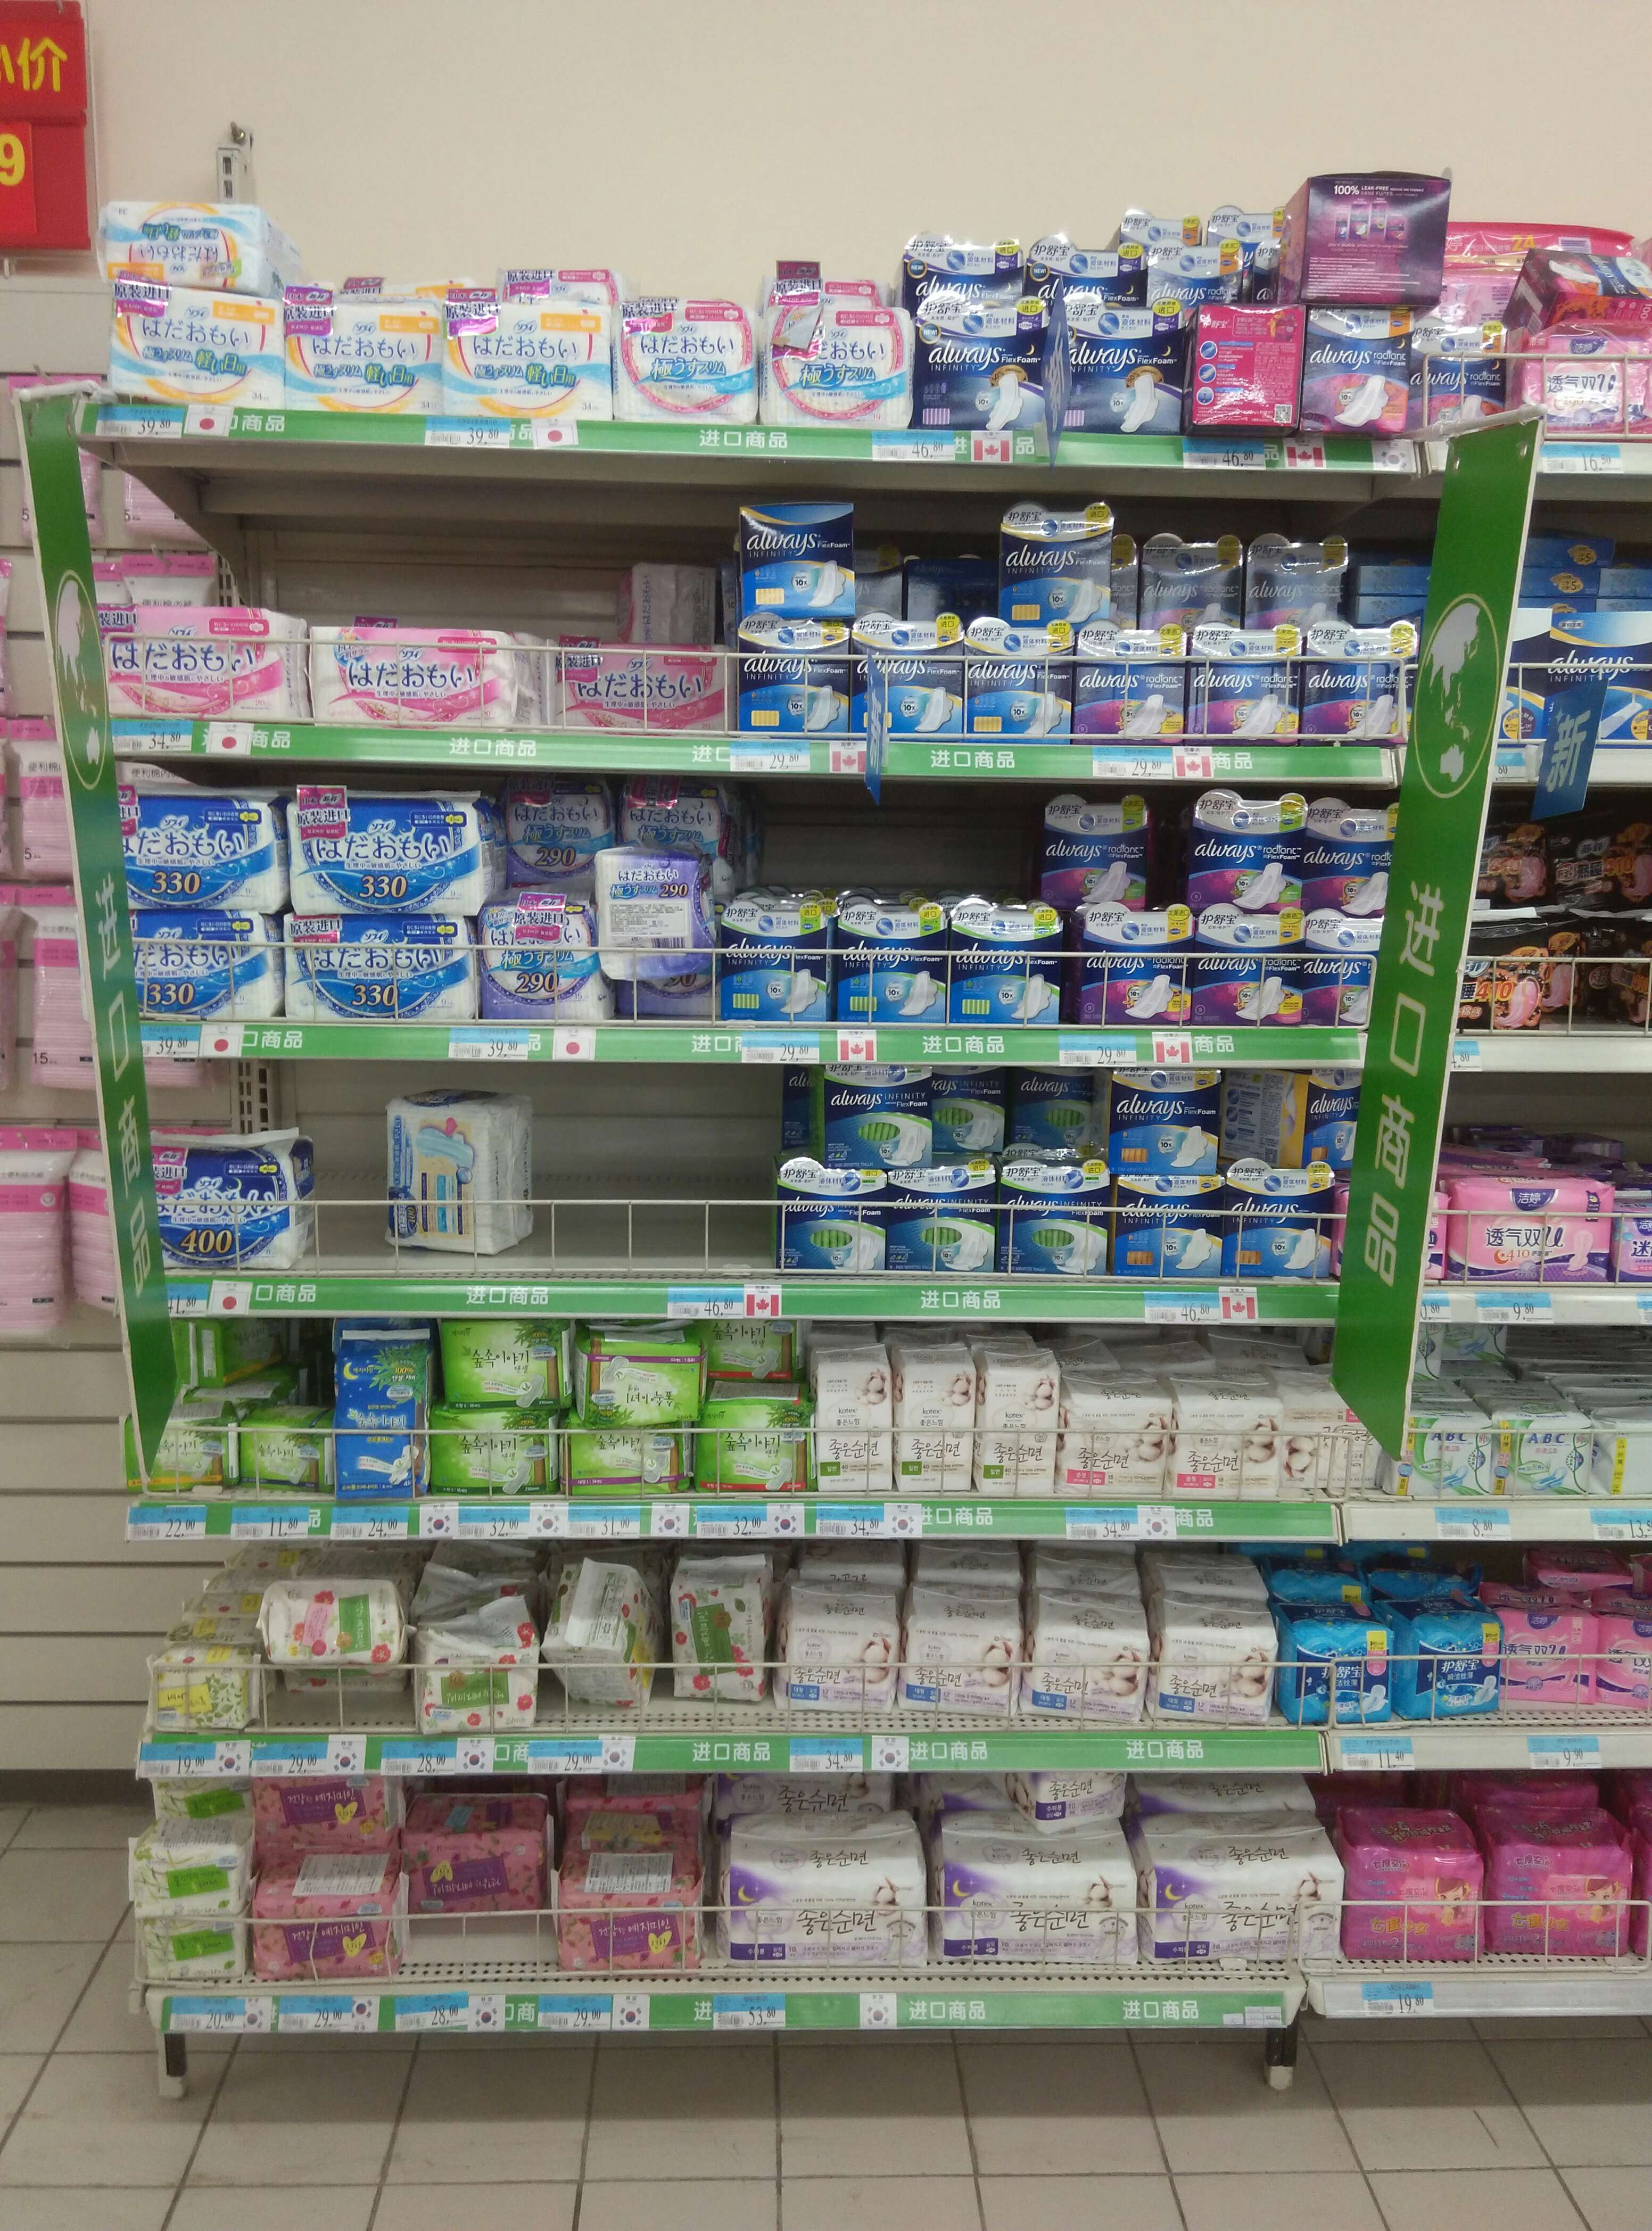product: (1145, 1813, 1329, 1967), (717, 1829, 923, 1960), (953, 1841, 1147, 1966), (94, 290, 283, 408), (311, 628, 536, 727), (113, 772, 265, 913), (559, 1818, 694, 1976), (1494, 1799, 1636, 1946), (446, 300, 616, 420), (767, 1575, 899, 1728), (764, 283, 908, 418), (1347, 1808, 1473, 1960), (283, 918, 470, 1017), (253, 1858, 404, 1979), (897, 1586, 1026, 1728), (1027, 1587, 1152, 1728), (153, 1136, 283, 1270), (109, 607, 290, 703), (297, 801, 467, 902), (285, 298, 441, 408), (326, 1334, 429, 1499), (616, 307, 764, 418), (543, 1561, 652, 1711), (1312, 177, 1454, 291), (387, 1115, 515, 1242), (427, 1591, 547, 1726), (95, 196, 276, 285), (1307, 612, 1419, 748), (954, 902, 1081, 1022), (1454, 1183, 1616, 1277), (1189, 796, 1314, 916), (1419, 614, 1541, 736), (541, 647, 727, 725), (1192, 302, 1308, 425), (661, 1556, 760, 1698), (1520, 319, 1649, 427), (968, 621, 1078, 746), (128, 919, 264, 1020), (1065, 307, 1178, 427), (1465, 918, 1590, 1025), (1312, 297, 1409, 434), (1543, 611, 1649, 736), (717, 911, 833, 1024), (1150, 1619, 1267, 1731), (411, 1823, 541, 1924), (267, 1575, 410, 1667), (1055, 1395, 1178, 1501), (1192, 631, 1305, 746), (852, 621, 961, 737), (477, 907, 590, 1018), (895, 1350, 980, 1495), (836, 907, 946, 1020), (741, 628, 854, 736), (1000, 1168, 1112, 1273), (880, 1173, 1000, 1272), (1119, 1169, 1227, 1279), (1225, 1171, 1334, 1279), (739, 500, 850, 605), (916, 337, 1041, 430), (604, 862, 708, 973), (694, 1391, 809, 1492), (816, 1063, 930, 1162), (436, 1400, 554, 1495), (980, 1353, 1055, 1501), (1288, 1620, 1399, 1719), (1039, 793, 1145, 893), (1079, 640, 1178, 748), (560, 1346, 696, 1424), (814, 1362, 894, 1494), (1083, 919, 1192, 1015), (1012, 1063, 1112, 1166), (1282, 1393, 1383, 1495), (1178, 1397, 1282, 1495), (1112, 1069, 1218, 1166), (996, 534, 1137, 607), (1196, 928, 1300, 1025), (1409, 323, 1499, 434), (1504, 1606, 1598, 1712), (769, 1176, 878, 1266), (496, 789, 593, 888), (1314, 803, 1399, 916), (121, 1910, 255, 1979), (916, 243, 1017, 335), (703, 1766, 899, 1813), (1402, 1624, 1504, 1712), (564, 1430, 692, 1499), (437, 1324, 550, 1398), (1301, 928, 1383, 1025), (1138, 538, 1242, 612), (934, 1063, 1010, 1164), (153, 1646, 253, 1723), (123, 1853, 252, 1912), (1496, 1423, 1595, 1499), (142, 1412, 241, 1488), (180, 1324, 300, 1384), (1244, 540, 1340, 614), (243, 1412, 324, 1499), (618, 779, 727, 843), (1470, 817, 1546, 904), (1395, 1431, 1492, 1499), (1525, 253, 1647, 307), (1029, 248, 1147, 300), (633, 569, 718, 628), (705, 1322, 800, 1374), (1041, 1776, 1126, 1827)
